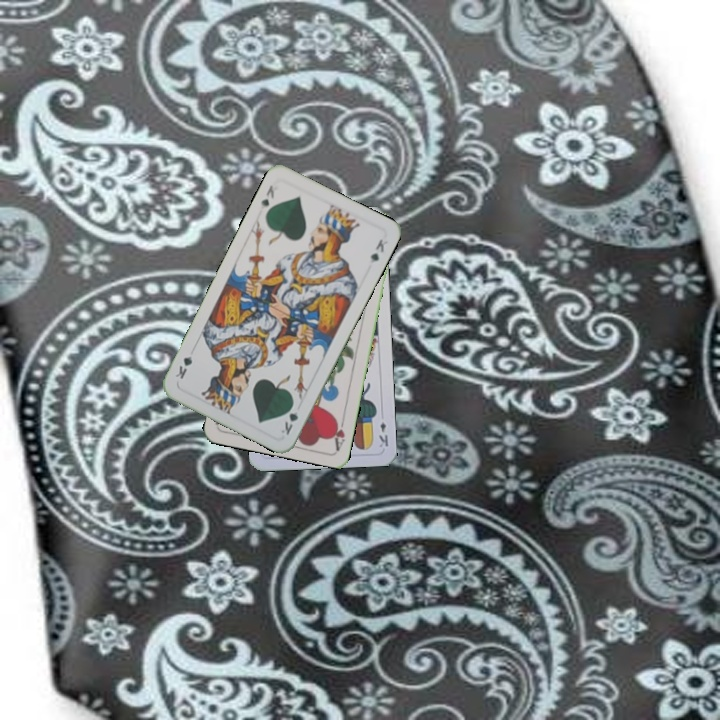EK: (375, 418, 391, 450)
GK: (276, 398, 301, 438), (257, 181, 277, 209)
HA: (328, 412, 347, 452)
